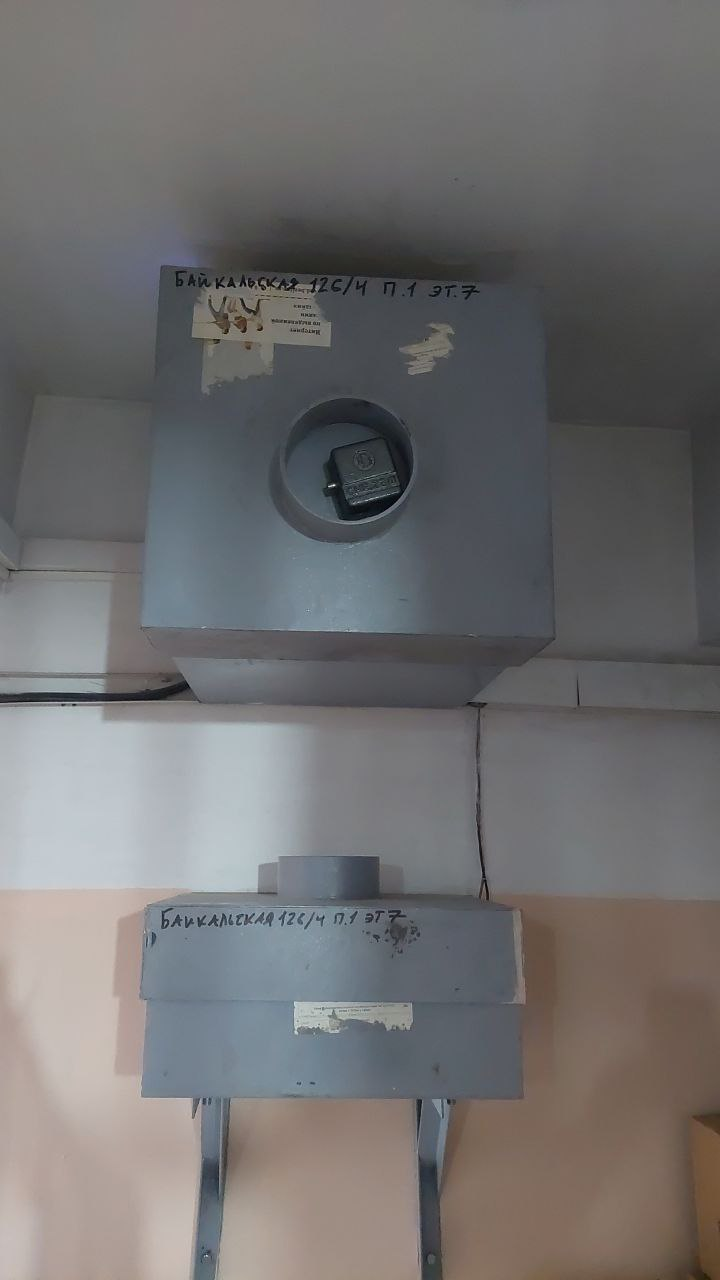shta-9: (129, 249, 567, 717)
shta-ps: (139, 848, 529, 1102)
